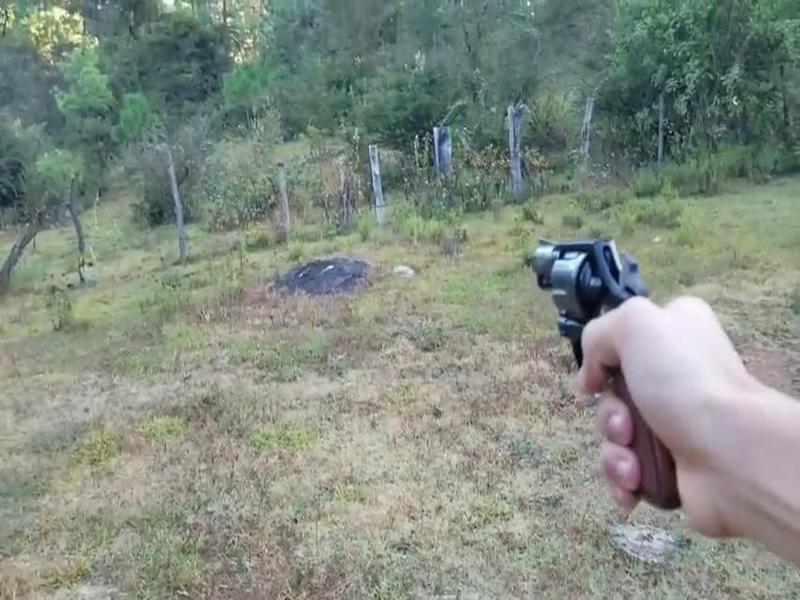Revolver: (526, 226, 683, 483)
